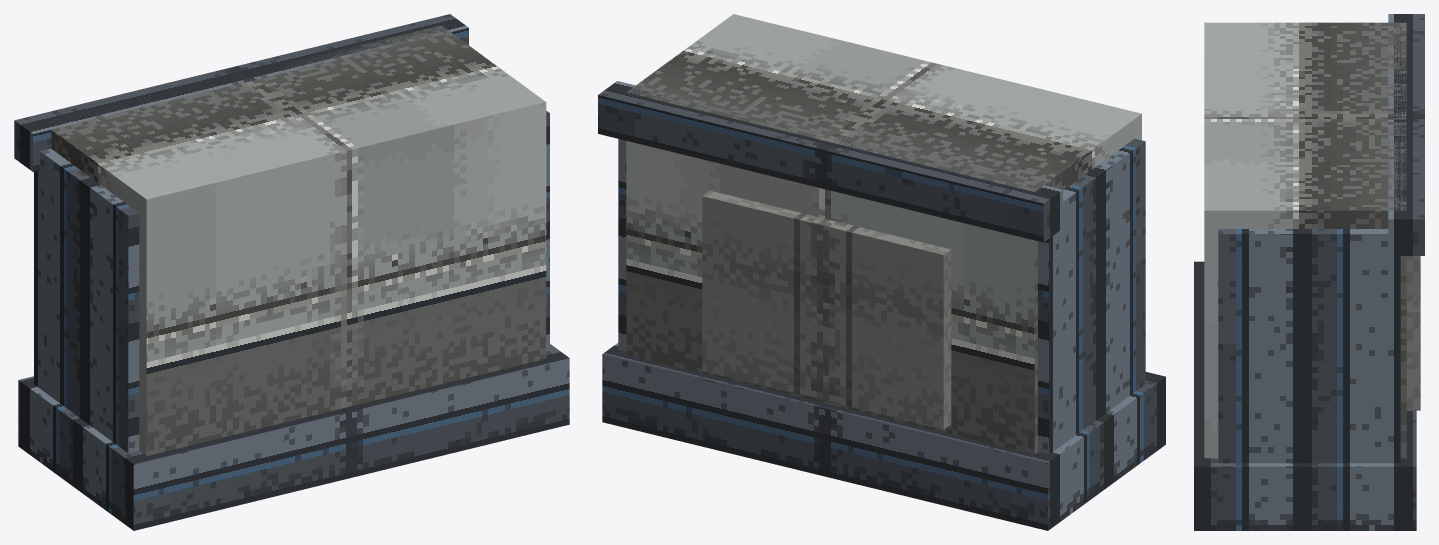
Rendered from sp_receiver_hood.glb.
The picture shows the model from 3 angles, left to right: view 1: azimuth 30°, elevation 25°; view 2: azimuth 150°, elevation 25°; view 3: azimuth 270°, elevation 25°; orthographic projection. The views are drawn at different scales.
Visible parts, largest first — view 1: hood_shell, hood_base, hood_cheek_-1, hood_lip_top, hood_cheek_1; view 2: hood_shell, receiver_mouth, hood_base, hood_cheek_-1, hood_lip_top, hood_cheek_1; view 3: hood_shell, hood_cheek_1, hood_base, hood_lip_top, receiver_mouth.
Part boxes in pixels (x1,y1,x2,y2): hood_shell: [47, 25, 546, 455]; hood_base: [18, 344, 569, 530]; hood_cheek_-1: [34, 149, 139, 453]; hood_lip_top: [14, 14, 468, 171]; hood_cheek_1: [546, 111, 549, 351]; hood_shell: [626, 14, 1141, 454]; receiver_mouth: [702, 190, 951, 429]; hood_base: [602, 343, 1165, 530]; hood_cheek_-1: [1038, 138, 1145, 454]; hood_lip_top: [598, 81, 1062, 242]; hood_cheek_1: [618, 139, 626, 351]; hood_shell: [1204, 22, 1406, 458]; hood_cheek_1: [1218, 229, 1400, 463]; hood_base: [1194, 261, 1416, 530]; hood_lip_top: [1388, 14, 1424, 255]; receiver_mouth: [1406, 256, 1420, 410].
Size of the model in its own units: 2.4 by 1.7 by 1.14.
Materials: 3 (3 with a texture image).
